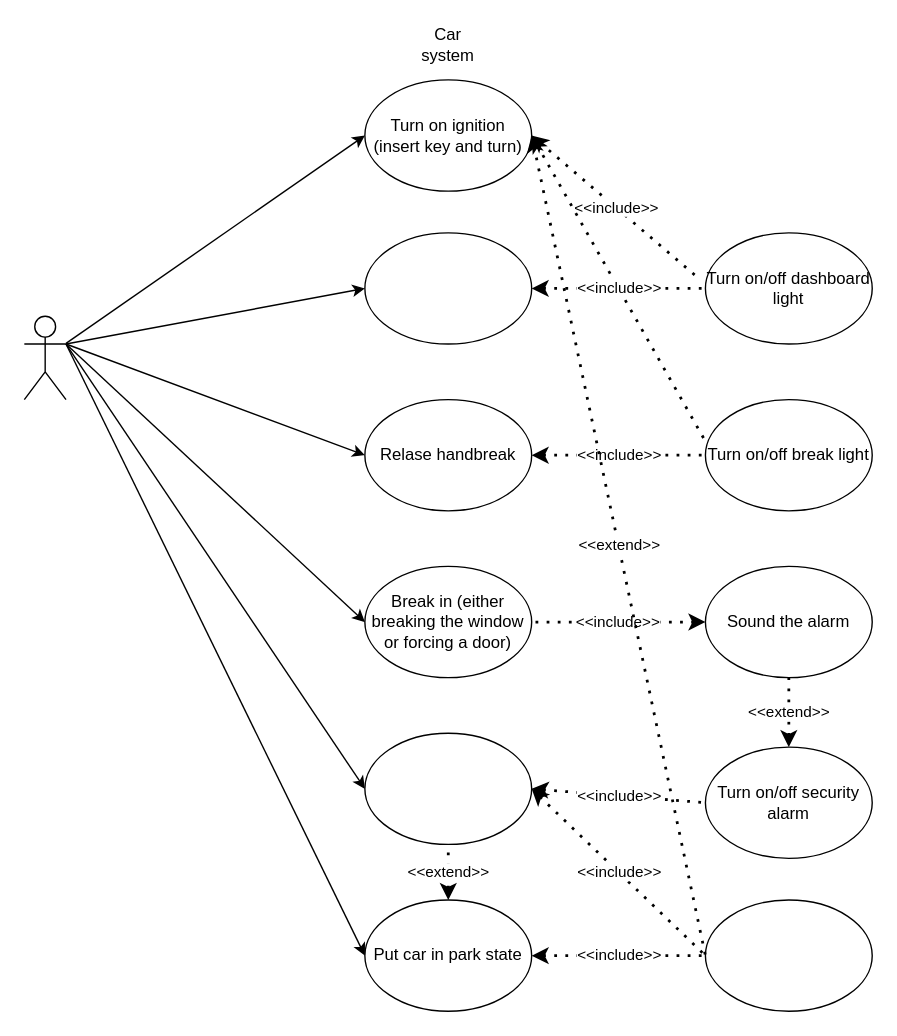
Image size: 897x1036. Some labels were removed from this diagram. The shapes that lost their labels are listed below. From the top down, each one's centre as x and y in pixels, then its label:
At [447,287]: "Fasten seatbelt".
At [44,357]: "user".
At [447,788]: "Press key button (to unlock door)".
At [788,955]: "Turn on/off park state".
